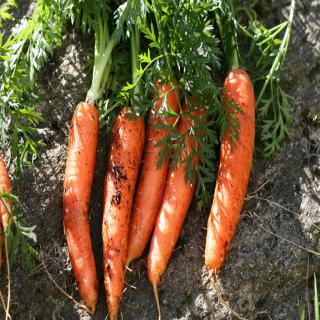Carrot: (67, 66, 255, 319), (147, 96, 209, 320), (41, 99, 99, 314), (125, 70, 180, 276), (220, 0, 253, 320), (101, 106, 145, 320), (0, 154, 12, 320)
